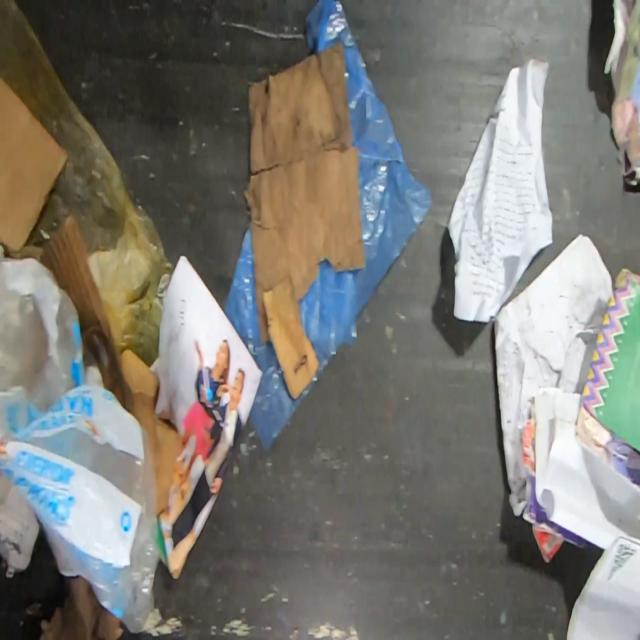cardboard: (37, 215, 182, 517), (0, 76, 68, 254), (262, 275, 320, 399), (38, 576, 126, 640)
soft_plastic: (222, 0, 432, 449), (0, 245, 182, 637)
